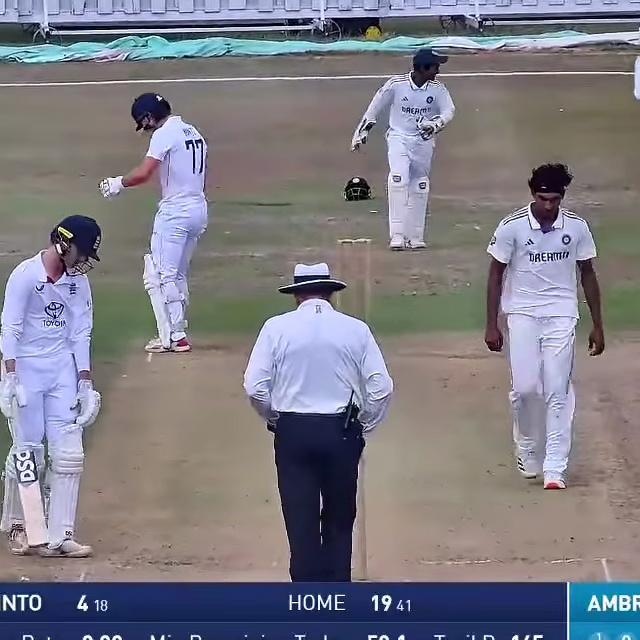umpire: (234, 250, 400, 584)
